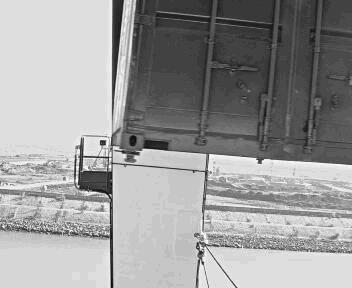twist_lock_1: (114, 146, 145, 169)
